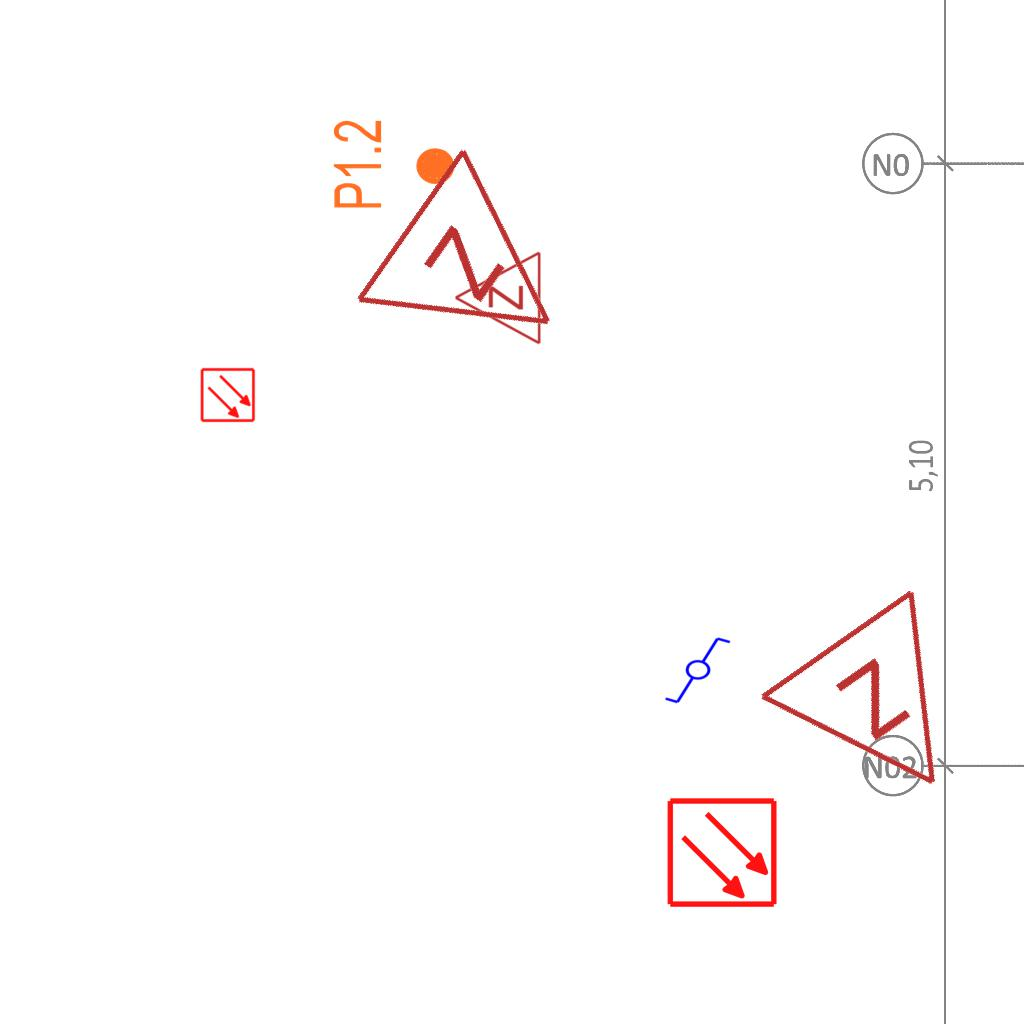Downlight_LED_Einbauleuchten_Flur: (330, 118, 458, 211)
RMO_Rauchmelder_optischer: (666, 796, 779, 909), (200, 367, 256, 423)
Wechselschalter: (663, 635, 741, 707)
Zimmersignalleuchte: (748, 572, 1024, 850), (341, 133, 619, 409), (448, 250, 548, 348)
